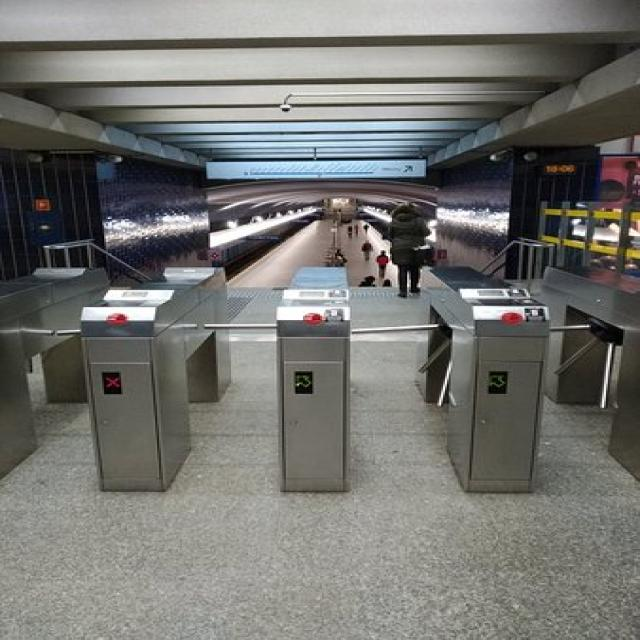torniquete: (419, 268, 548, 492), (82, 290, 191, 491), (276, 305, 349, 491)
